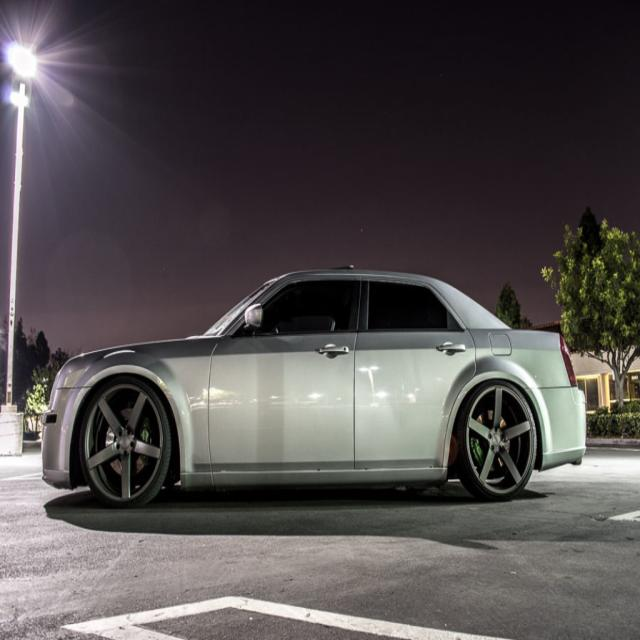car: (39, 258, 574, 512)
